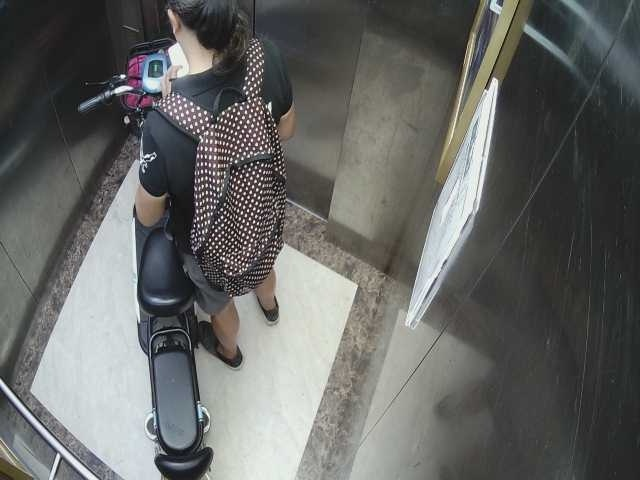bag: (176, 95, 306, 297)
electromobile: (84, 33, 224, 478)
